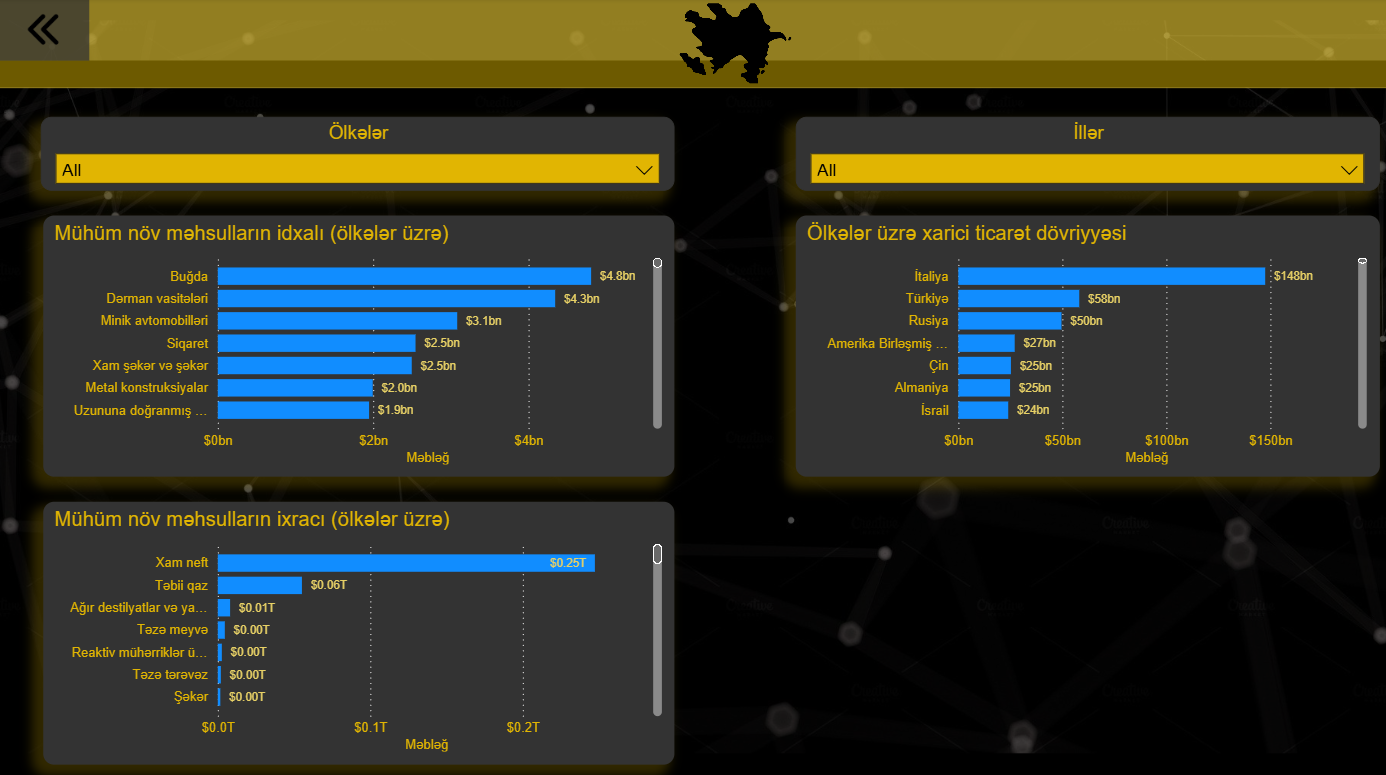

The page's visual inventory and layout, read from the dashboard file:
{"tool":"powerbi","page":{"name":"Son","canvas":[1280,720],"ordinal":3},"visuals":[{"type":"barChart","title":"Mühüm növ məhsulların ixracı (ölkələr üzrə)","fields":{"Category":["2009-2024 mühüm növ məhsulların ixrac (ölkələr üzrə).Mallar"],"Y":["Sum(2009-2024 mühüm növ məhsulların ixrac (ölkələr üzrə).Məbləği)"]},"box":[42.5,462.9,580.1,241.2],"z":0},{"type":"barChart","title":"Mühüm növ məhsulların idxalı (ölkələr üzrə)","fields":{"Category":["2009-2024 mühüm növ məhsulların idxalı (ölkələr üzrə).Mallar.1"],"Y":["Sum(2009-2024 mühüm növ məhsulların idxalı (ölkələr üzrə).Məbləği)"]},"box":[42.5,199.9,580.1,240.1],"z":1000},{"type":"slicer","title":"Ölkələr","fields":{"Values":["2009-2024 mühüm növ məhsulların idxalı (ölkələr üzrə).Ölkələr"]},"box":[40.2,109.1,582.4,67.8],"z":2000},{"type":"barChart","title":"Ölkələr üzrə xarici ticarət dövriyyəsi ","fields":{"Category":["Ölkələr üzrə xarici ticarət dövriyyəsi (2).Ölkələr"],"Y":["Sum(Ölkələr üzrə xarici ticarət dövriyyəsi (2).Ticarət dövriyyəsi)"]},"box":[734,199.9,536.4,240.1],"z":3000},{"type":"slicer","title":"İllər","fields":{"Values":["Ölkələr üzrə xarici ticarət dövriyyəsi (2).illər"]},"box":[734,109.1,536.4,67.8],"z":4000},{"type":"shape","box":[0,0,1280,82.9],"z":5000},{"type":"shape","box":[0,57.8,1279.7,24.6],"z":6000},{"type":"image","box":[0,0,85,57.4],"z":7000},{"type":"image","box":[623.2,0,111.9,83],"z":8000}]}

Visuals, with their boxes in screenshot pixels (x1, y1, x2, y2), scaled from the page's 1280x720 canvas onto the 1386x775 screenshot:
"Mühüm növ məhsulların ixracı (ölkələr üzrə)" barChart: (46,498,674,758)
"Mühüm növ məhsulların idxalı (ölkələr üzrə)" barChart: (46,215,674,474)
"Ölkələr" slicer: (44,117,674,190)
"Ölkələr üzrə xarici ticarət dövriyyəsi " barChart: (795,215,1376,474)
"İllər" slicer: (795,117,1376,190)
shape: (0,0,1385,89)
shape: (0,62,1385,89)
image: (0,0,92,62)
image: (675,0,796,89)
